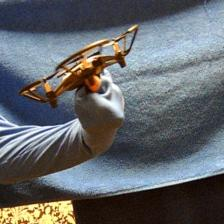drone: (20, 24, 138, 110)
